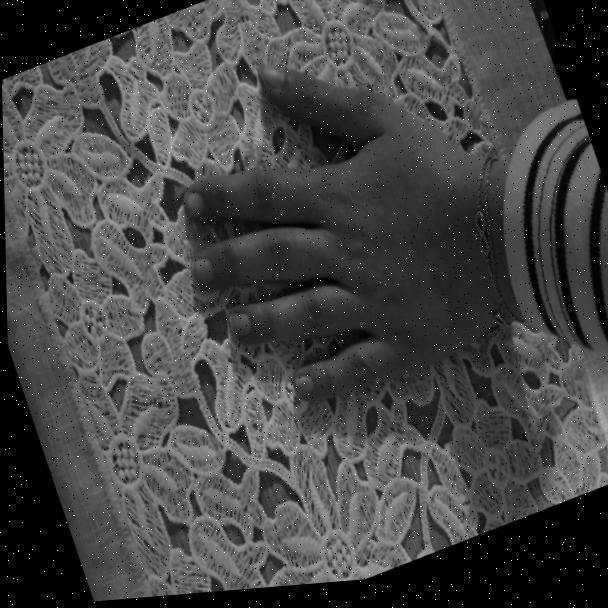five: (131, 0, 556, 478)
